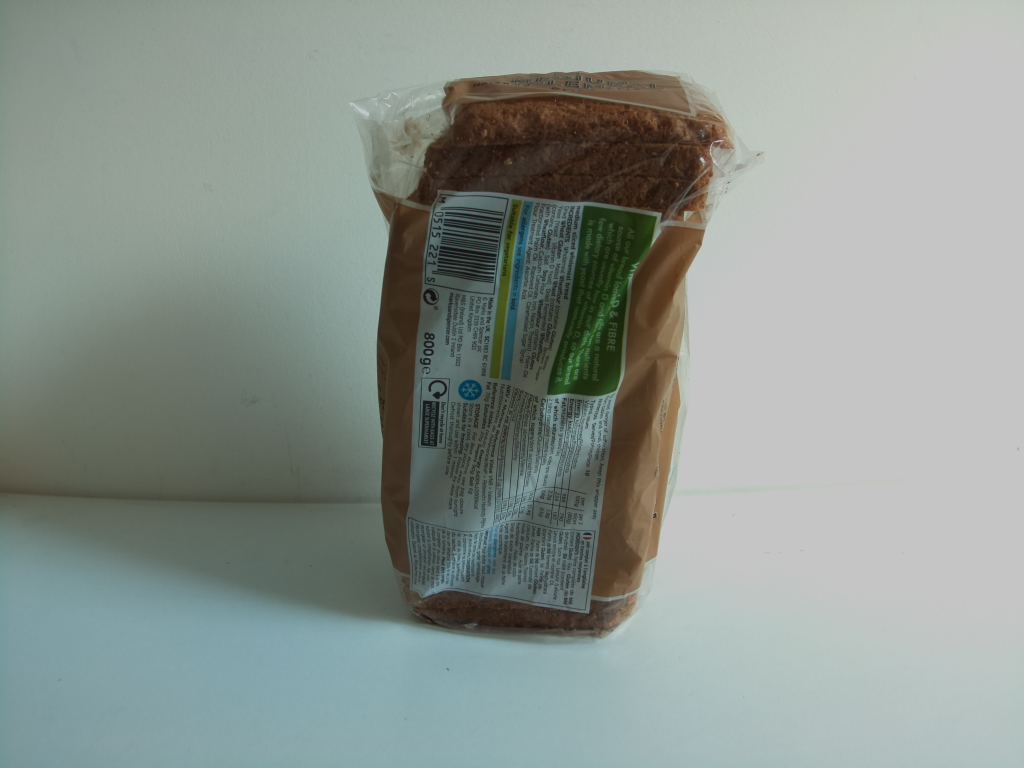bread: (342, 66, 766, 642)
